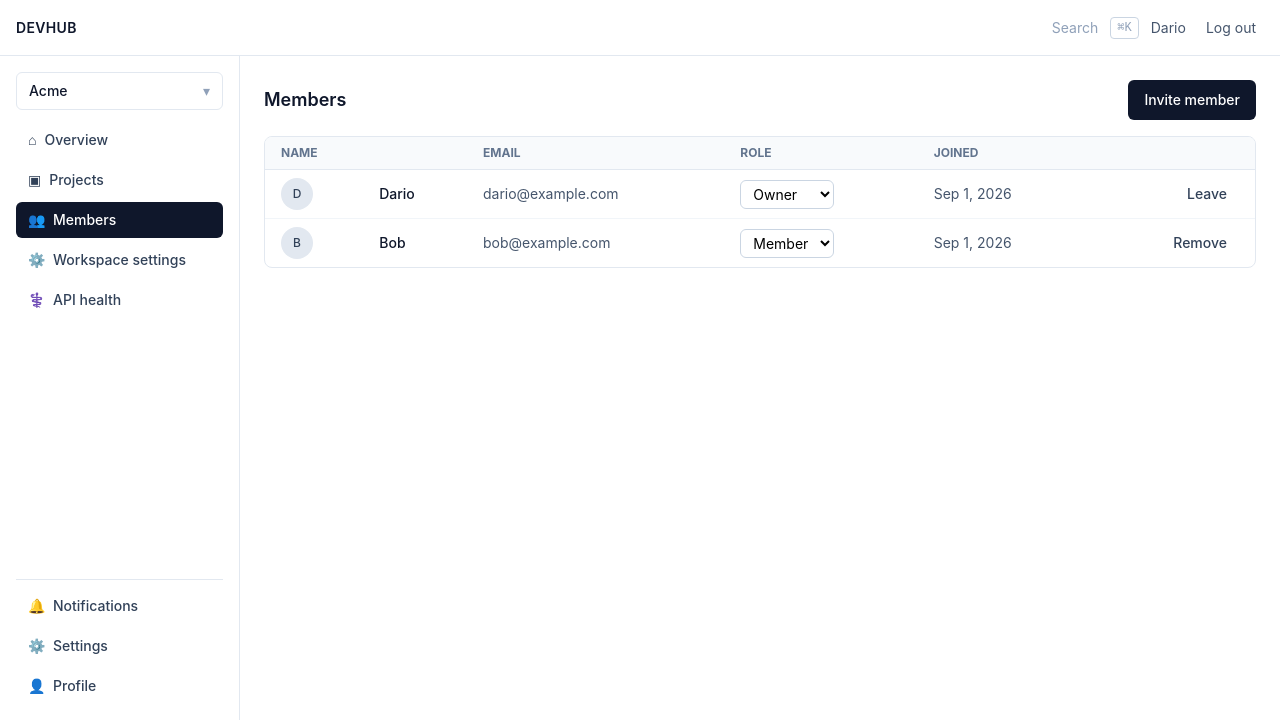
it: as an owner › maps a 404 unknown email onto the email field with the server wording
expect the text "Bob" is shown: met, box [363,218,467,267]
Click the button "Invite member" at (1192, 100), box [1128,80,1256,120]
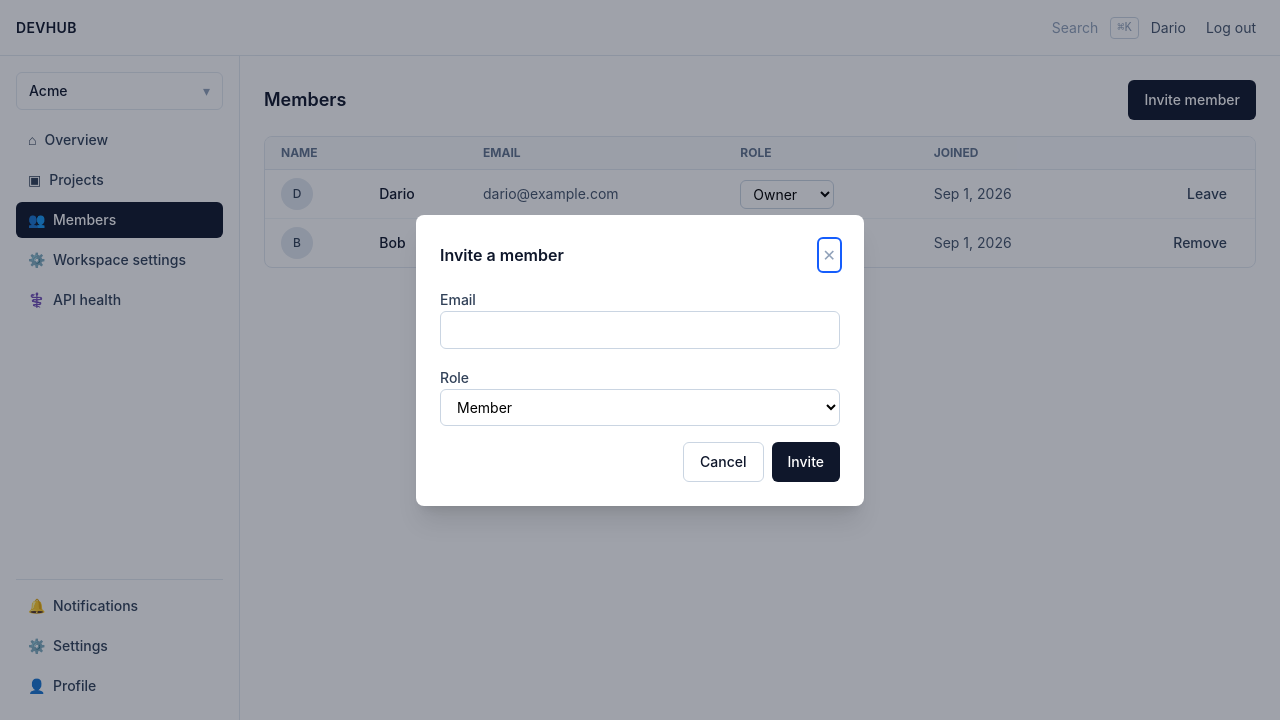
Type "ghost@example.com" into the field labelled "Email" at (640, 330), box [440,310,840,348]
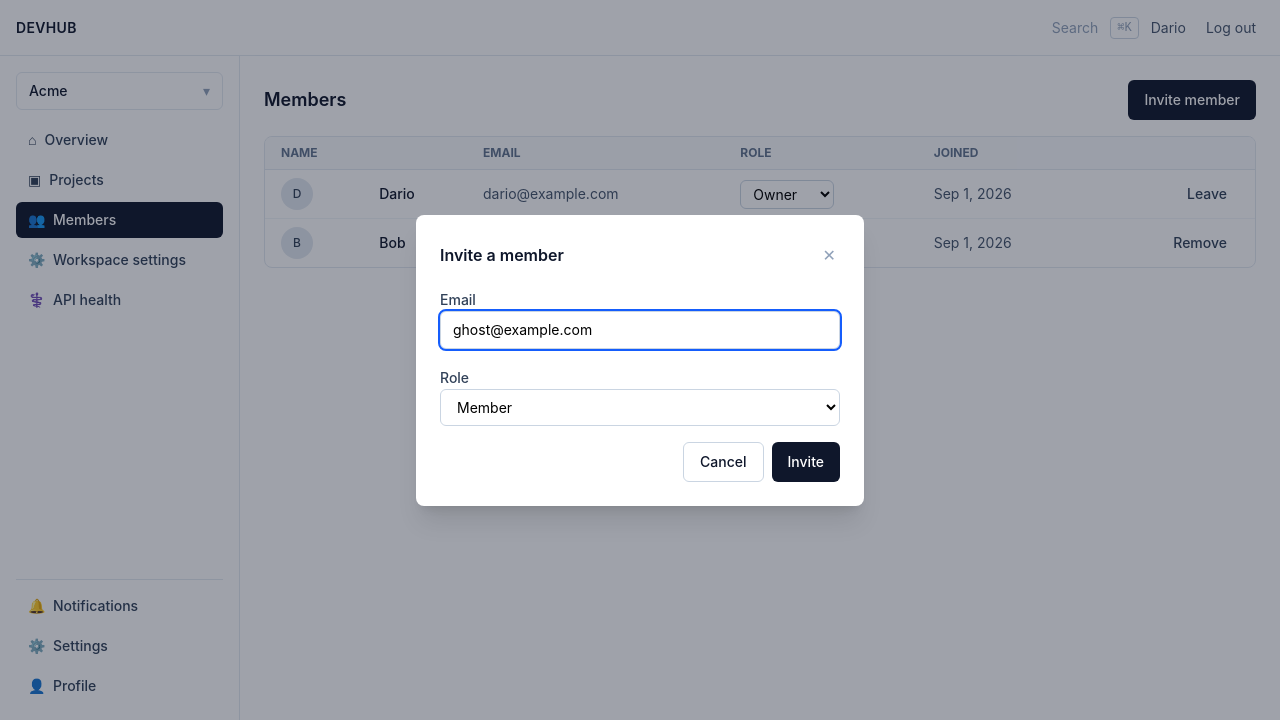
Click the button "Invite" at (806, 462), box [772,442,840,482]
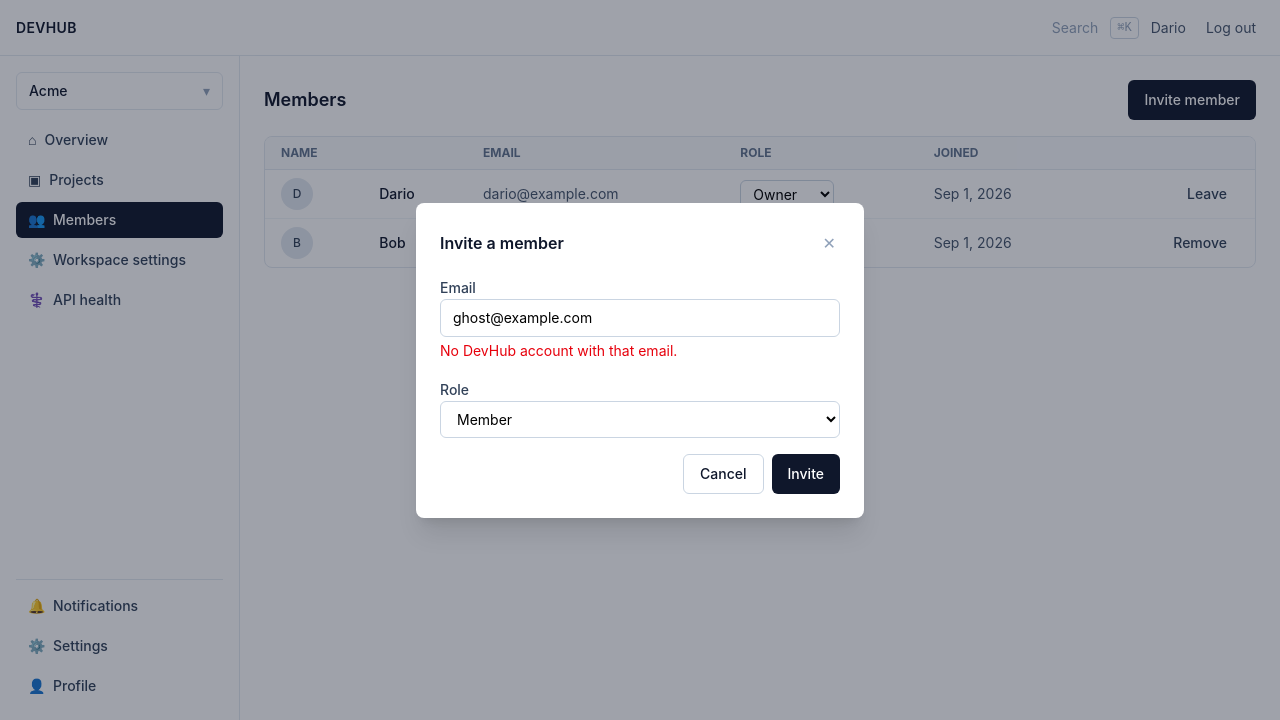
expect the text "No DevHub account with that email." is shown: met, box [440,342,677,358]
